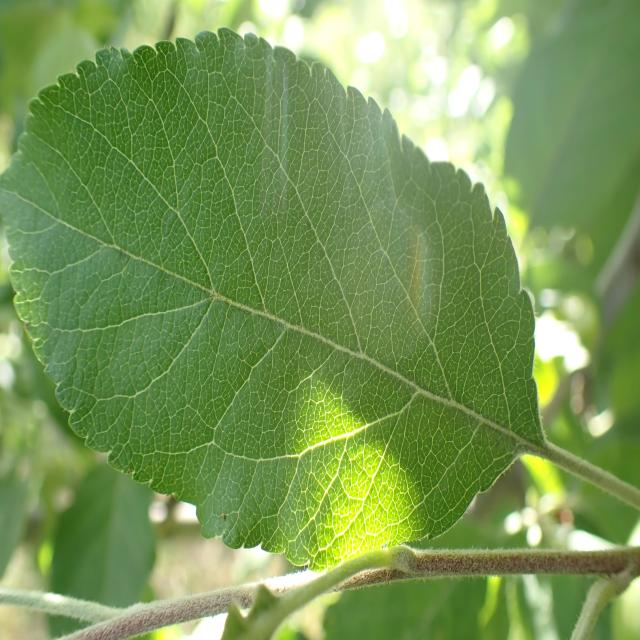healthy: (2, 29, 547, 574)
